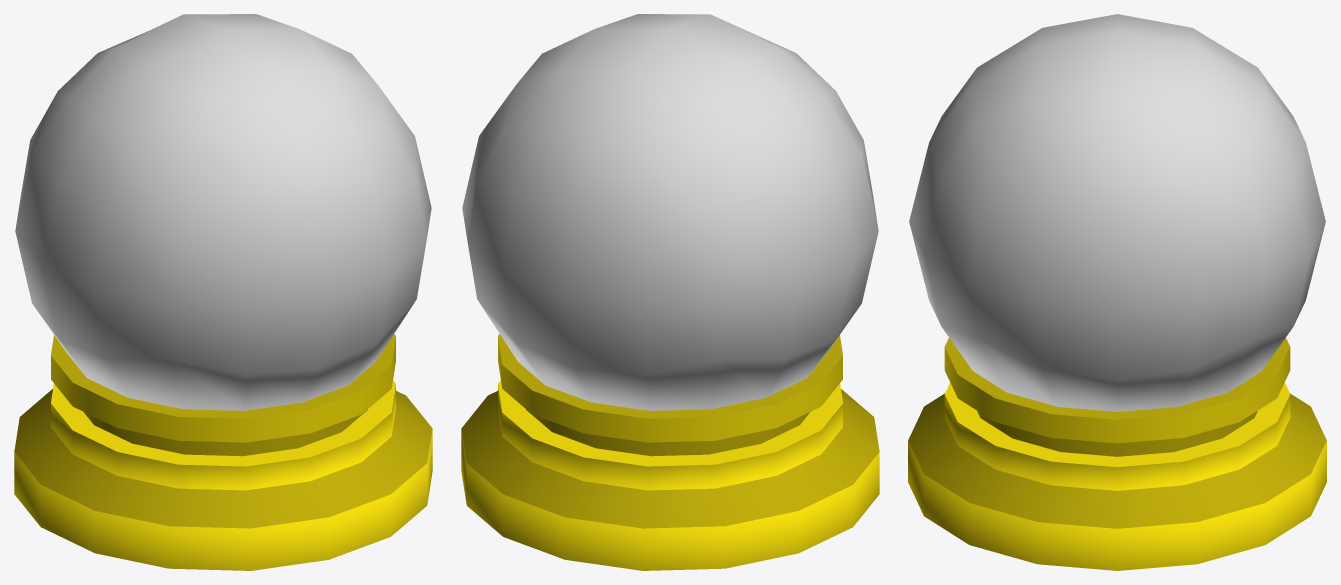
The model's file is mdl_poland_souvenir.gltf.
3 views of the same model, side by side, from view 1: azimuth 30°, elevation 25°; view 2: azimuth 150°, elevation 25°; view 3: azimuth 270°, elevation 25° (orthographic).
Parts seen in each view (by area): view 1: Cube.062, Cylinder.016; view 2: Cube.062, Cylinder.016; view 3: Cube.062, Cylinder.016.
Part boxes in pixels (bbox=[...]): Cube.062: bbox=[15, 14, 431, 410]; Cylinder.016: bbox=[14, 334, 432, 570]; Cube.062: bbox=[462, 14, 878, 410]; Cylinder.016: bbox=[461, 334, 879, 570]; Cube.062: bbox=[909, 14, 1325, 411]; Cylinder.016: bbox=[908, 338, 1326, 570].
Bounding box in the file's own units: 2 × 2.37 × 2.
2 materials, 1 textured.
